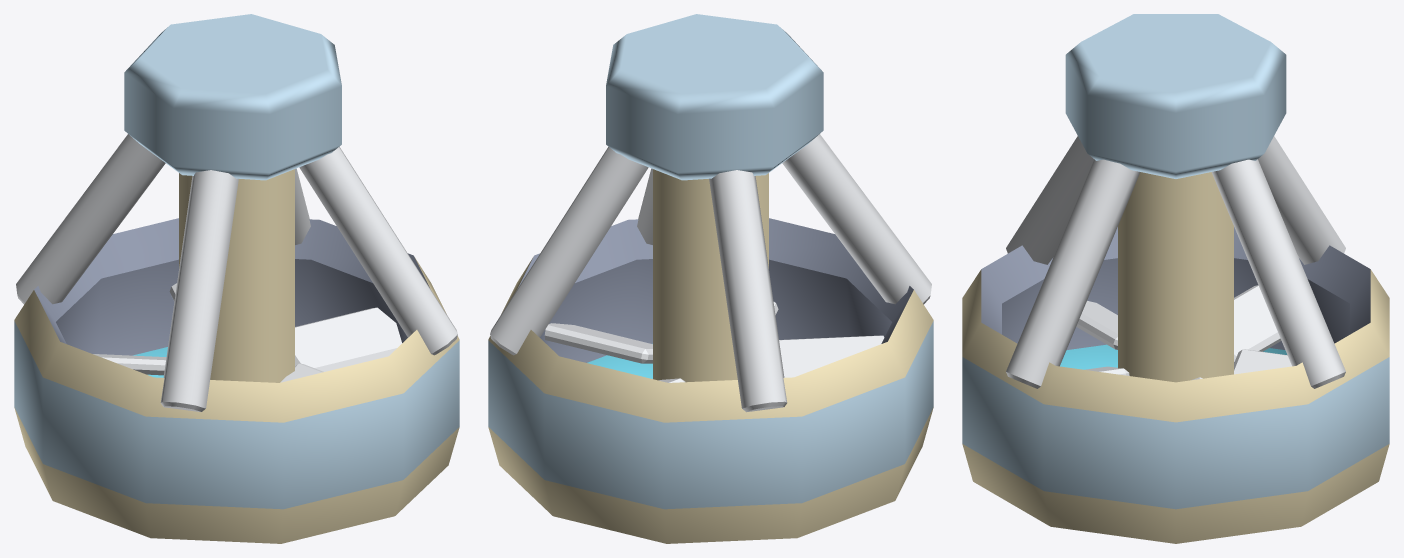
Rendered from R4X_HoverEngine_LOD1.glb.
3 views of the same model, side by side, from view 1: azimuth 30°, elevation 25°; view 2: azimuth 150°, elevation 25°; view 3: azimuth 270°, elevation 25° (orthographic).
Parts seen in each view (by area): view 1: R4X_HoverEngine_LOD1; view 2: R4X_HoverEngine_LOD1; view 3: R4X_HoverEngine_LOD1.
Boxes of the visible parts, box(x1,y1,x2,y2) form: R4X_HoverEngine_LOD1: box(14, 14, 459, 543); R4X_HoverEngine_LOD1: box(488, 14, 933, 543); R4X_HoverEngine_LOD1: box(962, 14, 1389, 543).
Size of the model in its own units: 0.516 by 0.52 by 0.4907.
